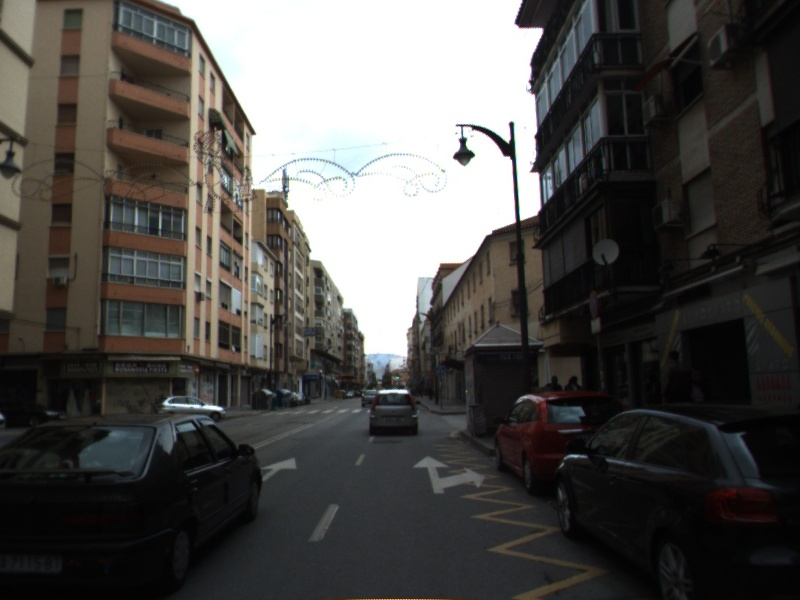STRAIGHT: (259, 456, 298, 482)
STRAIGHT_RIGHT: (409, 453, 488, 495)
